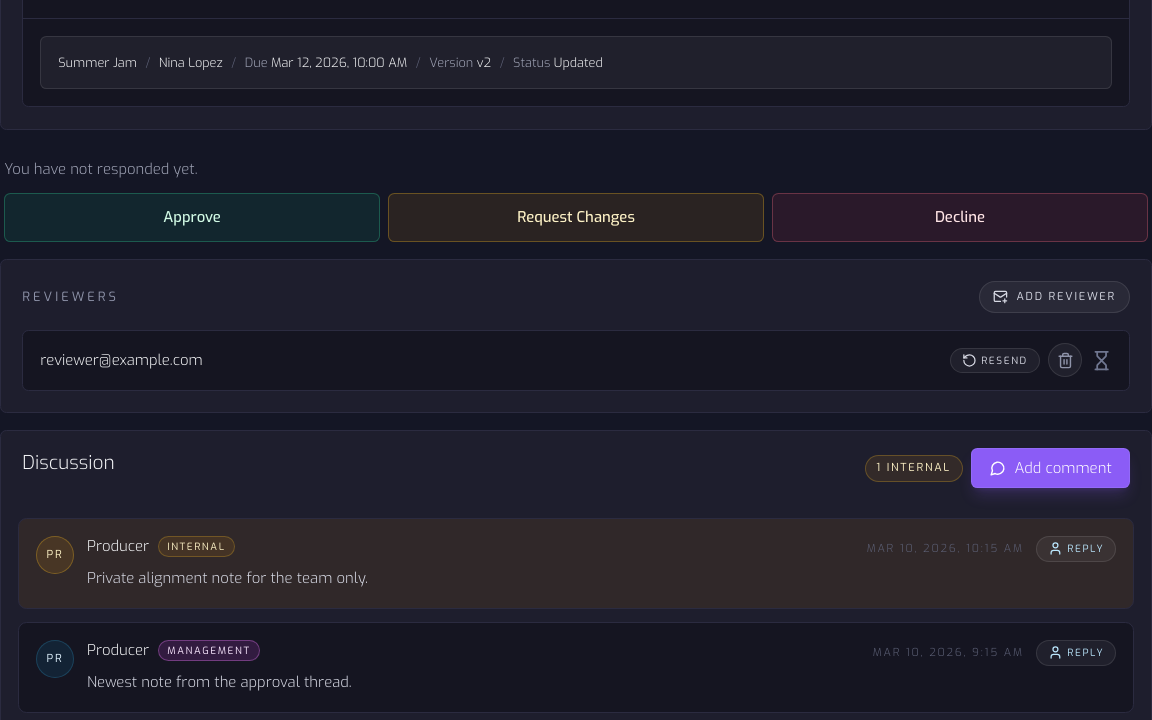
ApprovalDetailView › removes a reviewer from the reviewer row after confirmation
(page scrolled)
What coordinates should you click on to do the following:
click the button named "Remove reviewer reviewer@example.com"
I would click on:
 (1065, 360)
Its box is x1=1048 y1=343 x2=1082 y2=377.
(page scrolled)
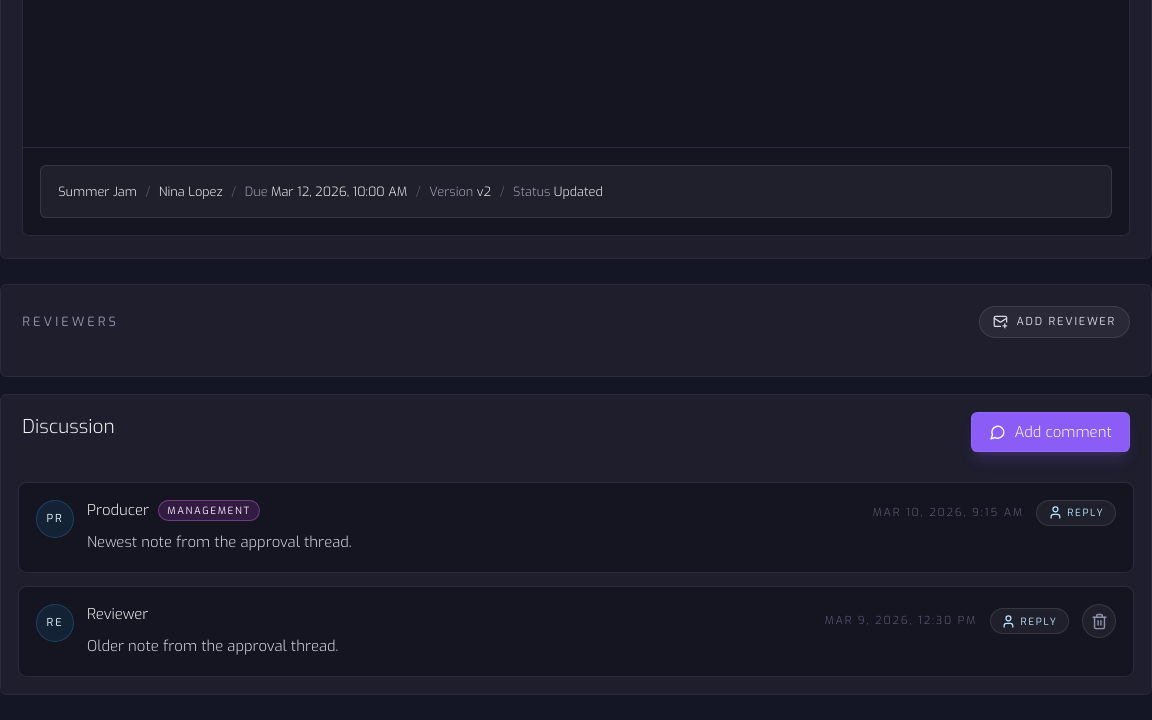
Expected: the text "reviewer@example.com" is gone
